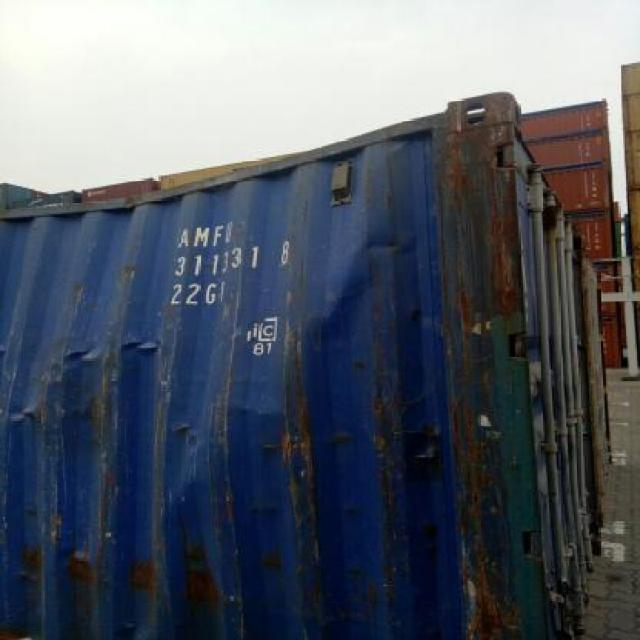dent: (27, 266, 384, 559), (2, 120, 419, 220)
rust: (444, 93, 515, 207), (490, 212, 521, 318)
